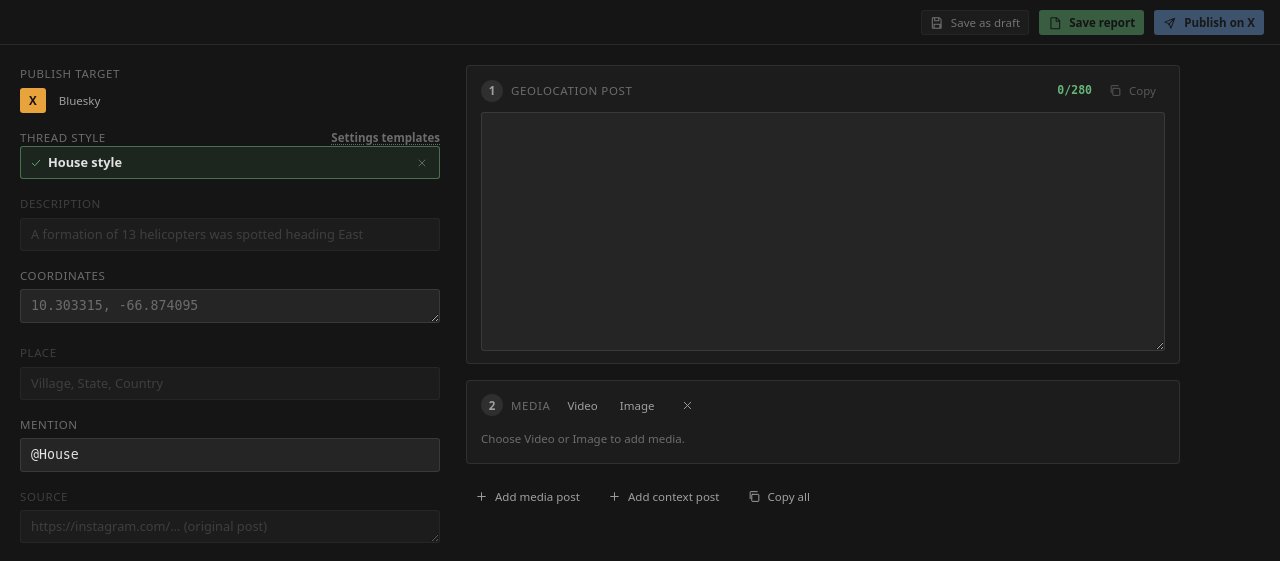
Test: Remove › goes back to the classic layout and stays there
Expected: the field with placeholder "@GeoConfirmed" holds "@House", [20,438,440,472]
Click the button with class "tpl-remove".
click(422, 163)  # box [414,155,430,171]
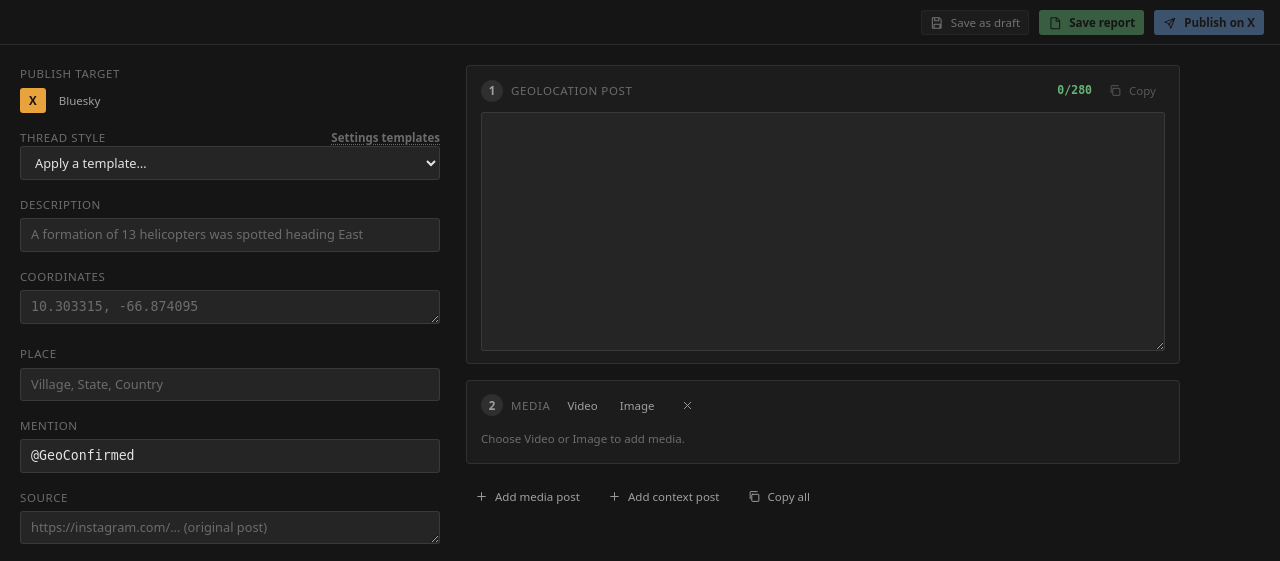
Now the field with placeholder "@GeoConfirmed" holds "@GeoConfirmed", box [20,439,440,473]
Now the dropdown labelled "Thread style" is shown, box [20,146,440,180]
Now the element with class "tpl-loaded-name" is gone
